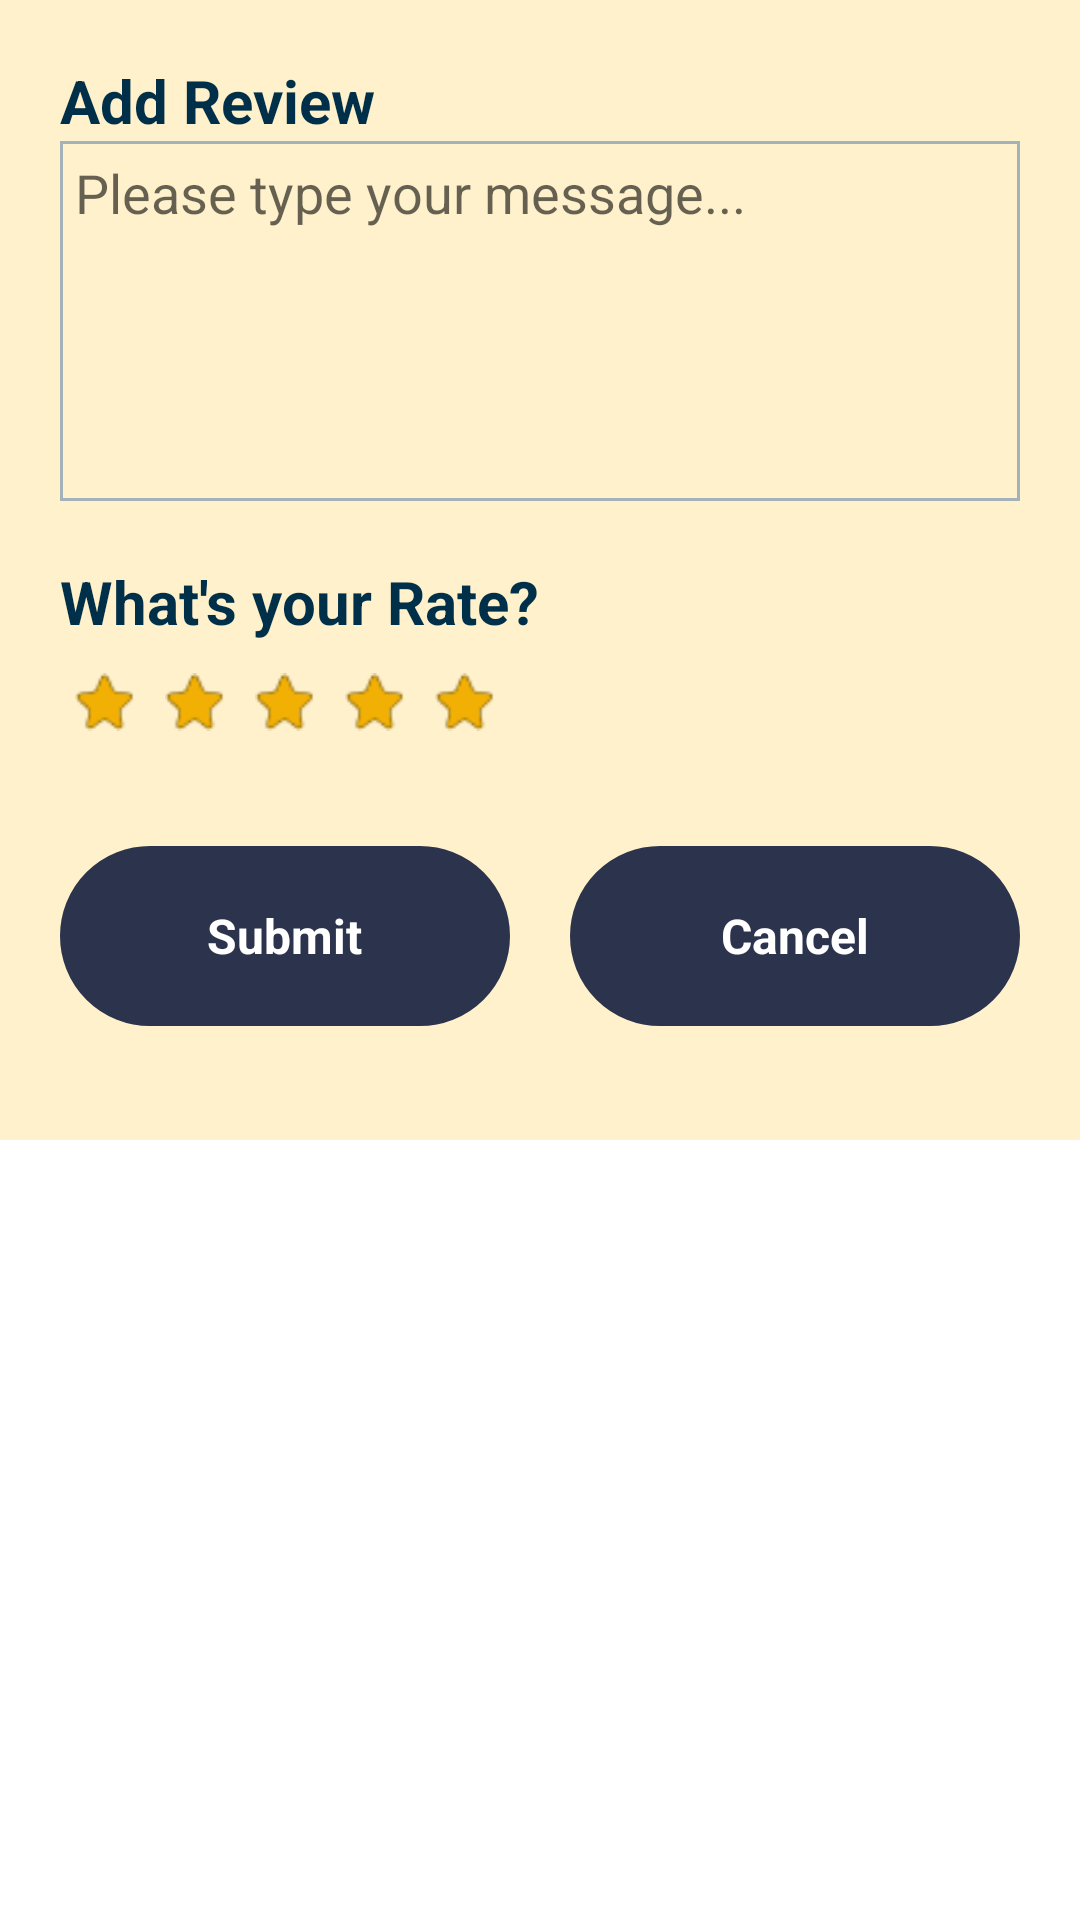

Icon bounding boxes for this 1080 x 1920 phone screenshot, format {"left": x1, "top": y1, "right": x2, "bottom": y2}:
star good: {"left": 75, "top": 673, "right": 133, "bottom": 731}, {"left": 165, "top": 673, "right": 223, "bottom": 731}, {"left": 255, "top": 673, "right": 313, "bottom": 731}, {"left": 345, "top": 673, "right": 403, "bottom": 731}, {"left": 435, "top": 673, "right": 493, "bottom": 731}
